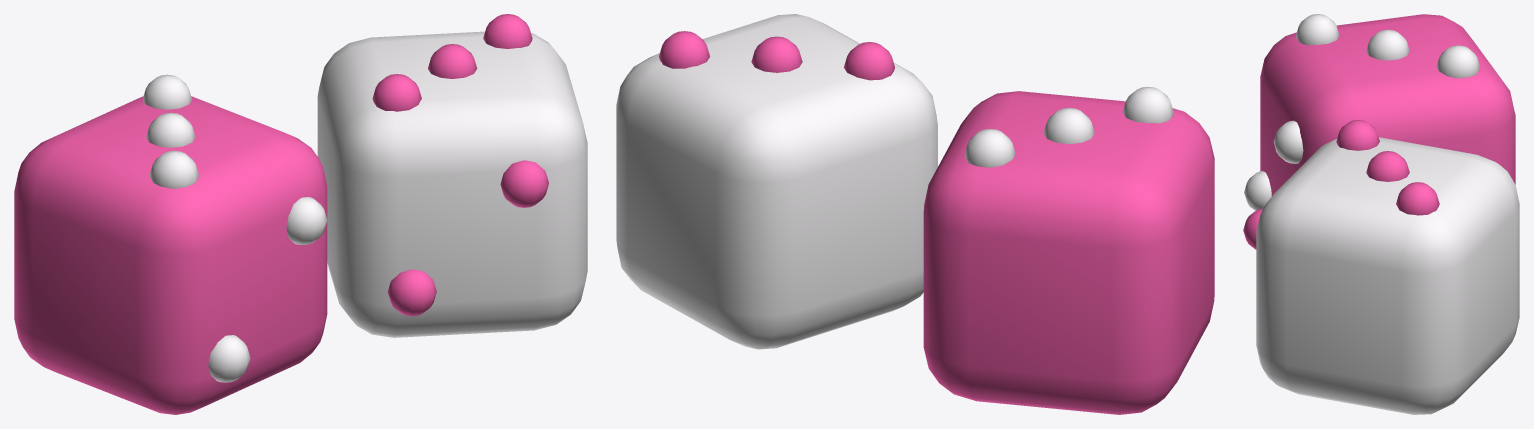
The model's file is Item_LoveDice.fbx.
3 renders of one model, left to right at view 1: azimuth 30°, elevation 25°; view 2: azimuth 150°, elevation 25°; view 3: azimuth 270°, elevation 25°, orthographic. The views are drawn at different scales.
Visible parts, largest first — view 1: Dice0, Dice1, Dice1_Pips, Dice0_Pips; view 2: Dice1, Dice0, Dice1_Pips, Dice0_Pips; view 3: Dice1, Dice0, Dice0_Pips, Dice1_Pips.
Part boxes in pixels (<box>): Dice0: <box>14,96,327,414</box>; Dice1: <box>317,31,587,337</box>; Dice1_Pips: <box>372,14,548,316</box>; Dice0_Pips: <box>142,74,327,382</box>; Dice1: <box>616,14,937,349</box>; Dice0: <box>923,91,1214,414</box>; Dice1_Pips: <box>659,31,894,80</box>; Dice0_Pips: <box>964,87,1173,167</box>; Dice1: <box>1256,137,1519,414</box>; Dice0: <box>1260,14,1515,195</box>; Dice0_Pips: <box>1244,14,1479,210</box>; Dice1_Pips: <box>1243,120,1439,249</box>.
Size of the model in its own units: 0.0876 by 0.0395 by 0.0443.
